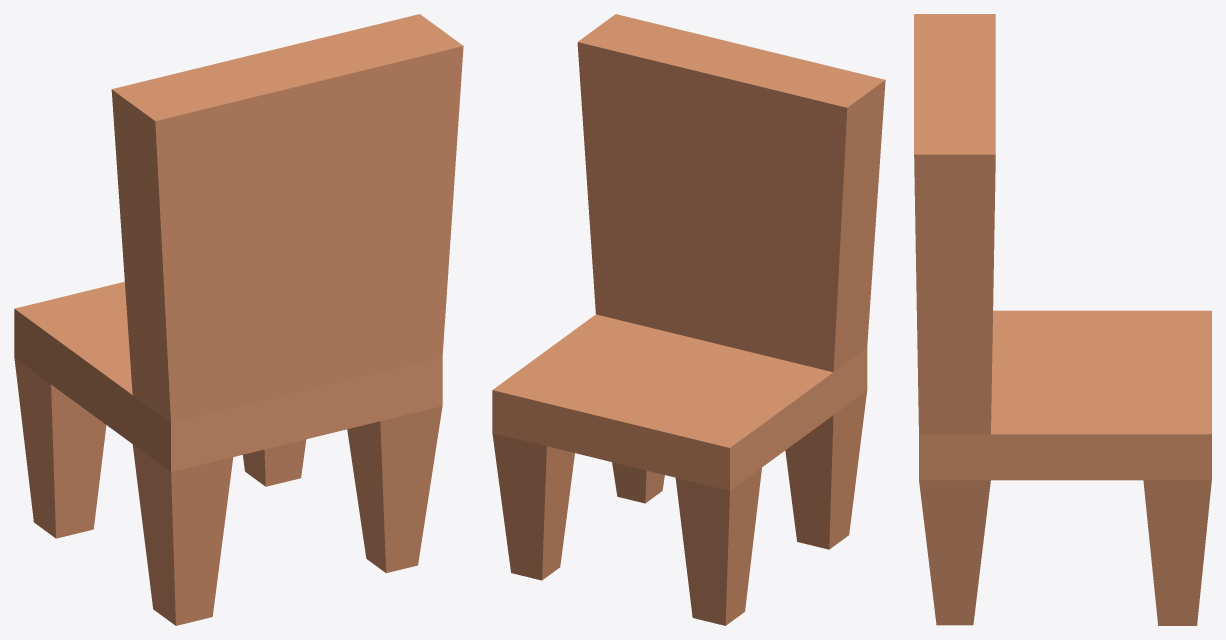
File: chair.fbx
3 views of the same model, side by side, from view 1: azimuth 30°, elevation 25°; view 2: azimuth 150°, elevation 25°; view 3: azimuth 270°, elevation 25° (orthographic). The views are drawn at different scales.
Visible parts, largest first — view 1: Cube; view 2: Cube; view 3: Cube.
Part boxes in pixels (x1,y1,x2,y2): Cube: (14,14,463,625); Cube: (492,14,885,625); Cube: (914,14,1211,625).
Bounding box in the file's own units: 227 × 366 × 203.
